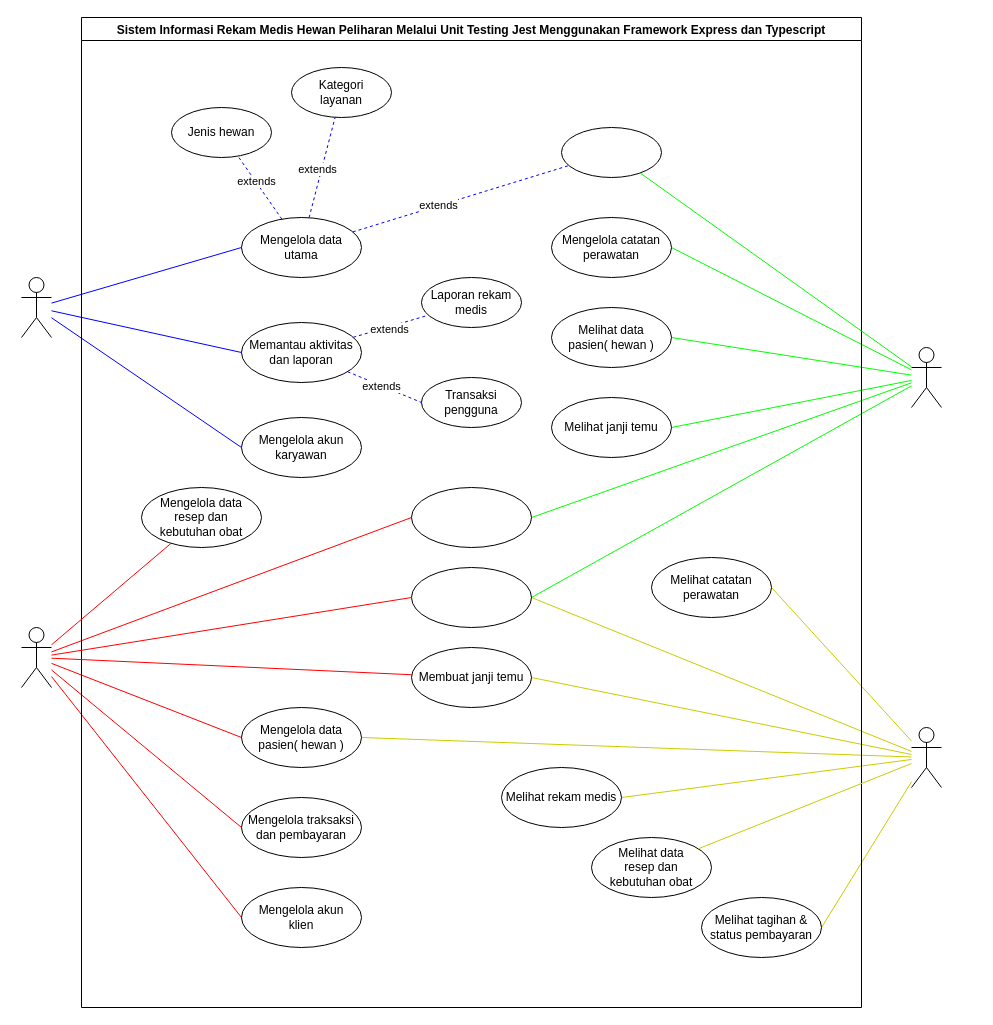
This 993x1025 diagram has some shape labels left out. Each missing label, with the centre of its shape:
"ADMIN" belongs at point 36,307.
"Daftar obat" belongs at point 611,152.
"DOKTER HEWAN" belongs at point 926,377.
"KLIEN" belongs at point 926,757.
"Mengelola akun pribadi" belongs at point 471,597.
"Mengelola rekam medis" belongs at point 471,517.
"STAFF" belongs at point 36,657.
